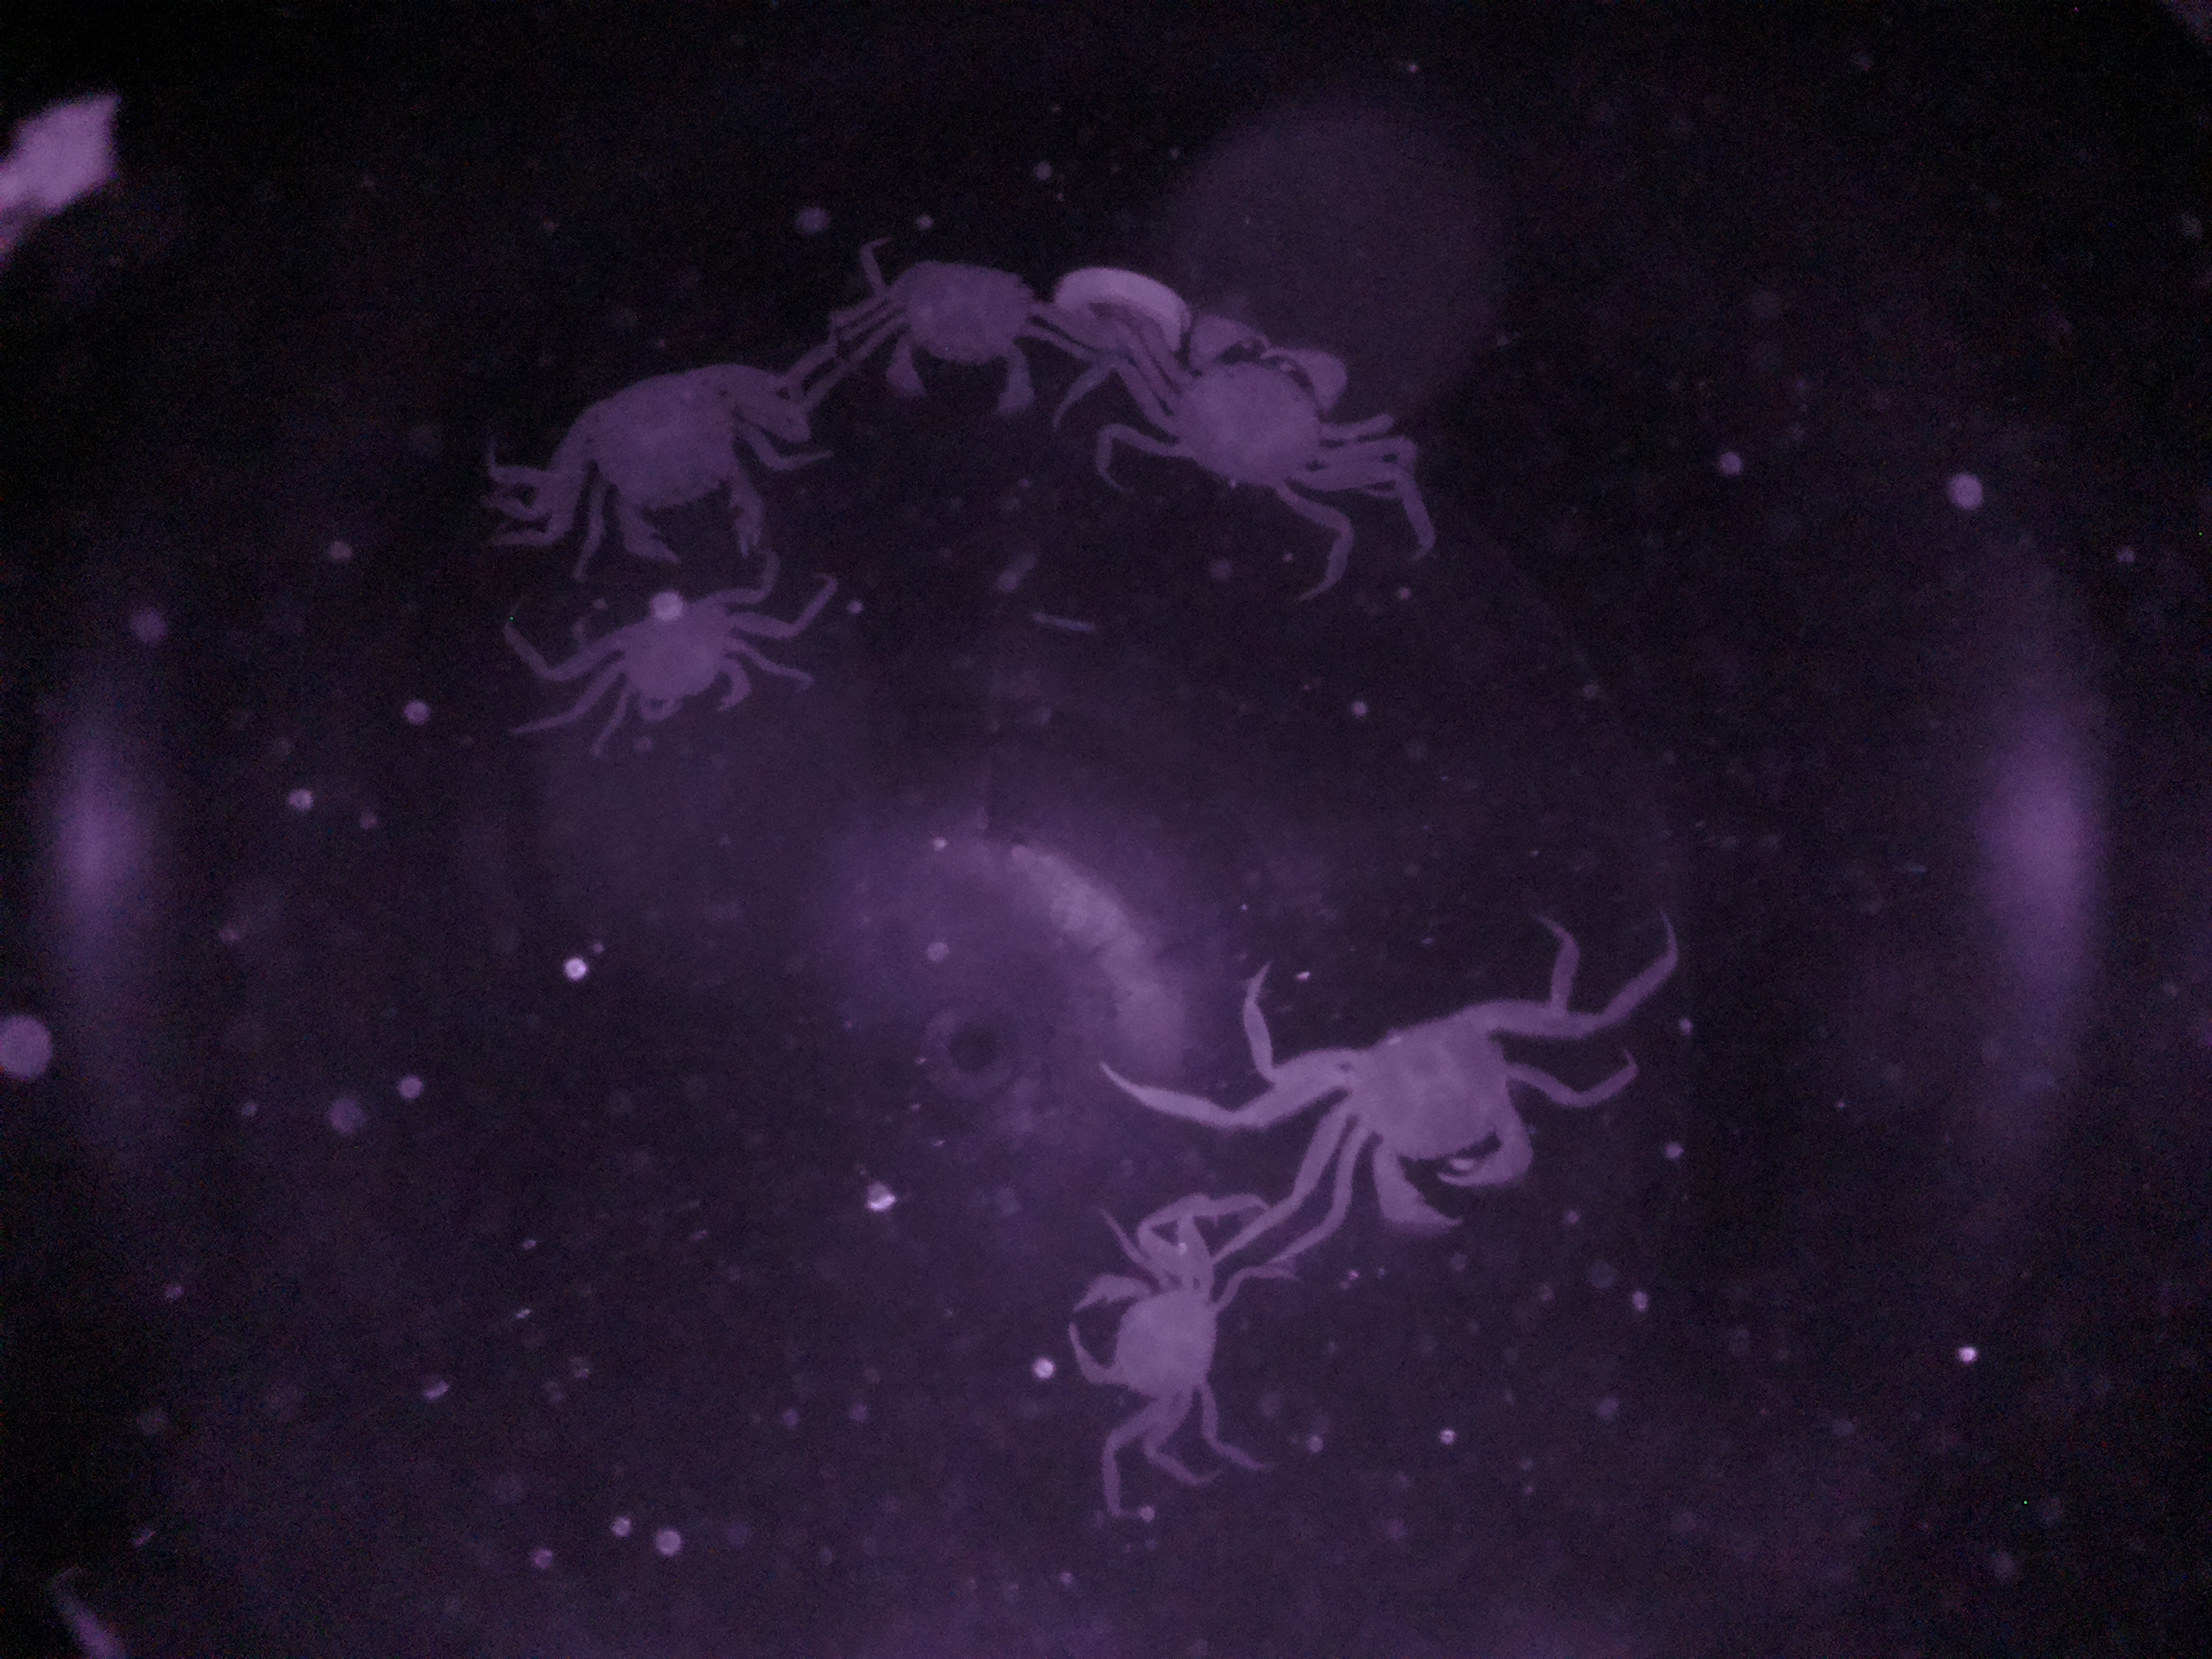Crab: (1289, 981, 1547, 1243), (528, 345, 787, 563), (1136, 303, 1385, 521), (1033, 1229, 1256, 1436), (880, 249, 1066, 453), (589, 580, 794, 748)
